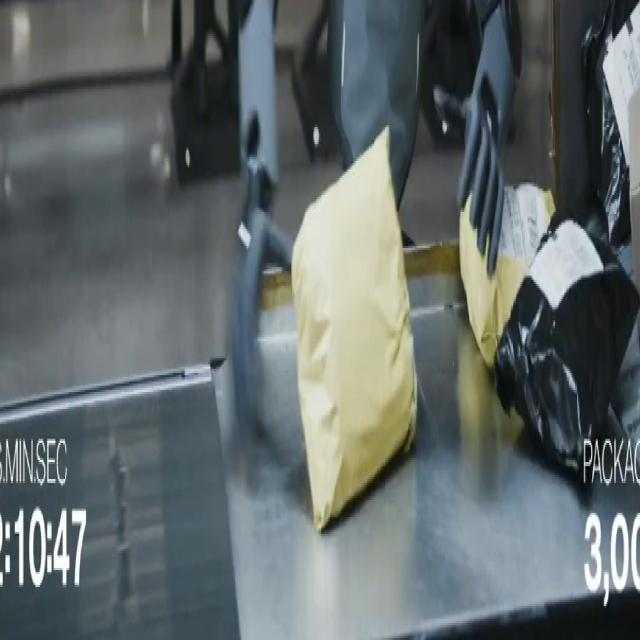package: (292, 130, 416, 531), (495, 212, 639, 472), (459, 185, 554, 368), (583, 0, 639, 247), (457, 327, 522, 493), (628, 92, 639, 286)
